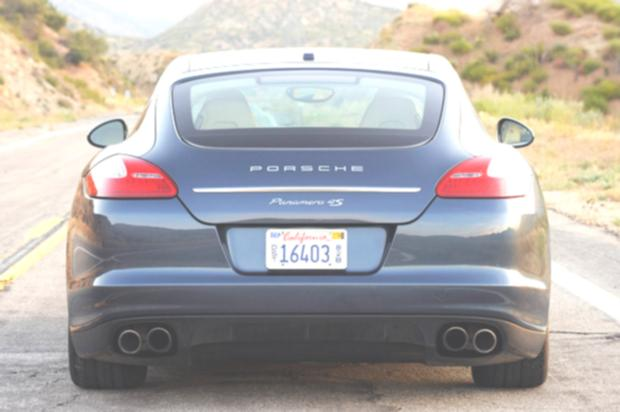porsche: (242, 157, 370, 177)
